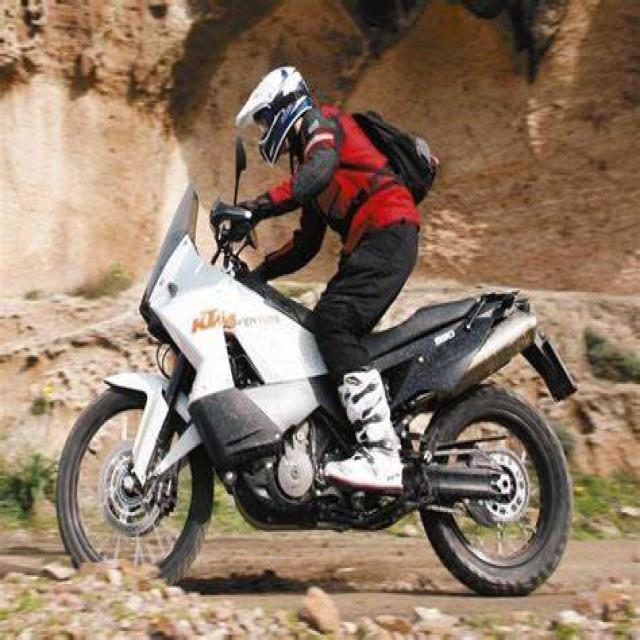illegal_helmet: (228, 58, 322, 174)
